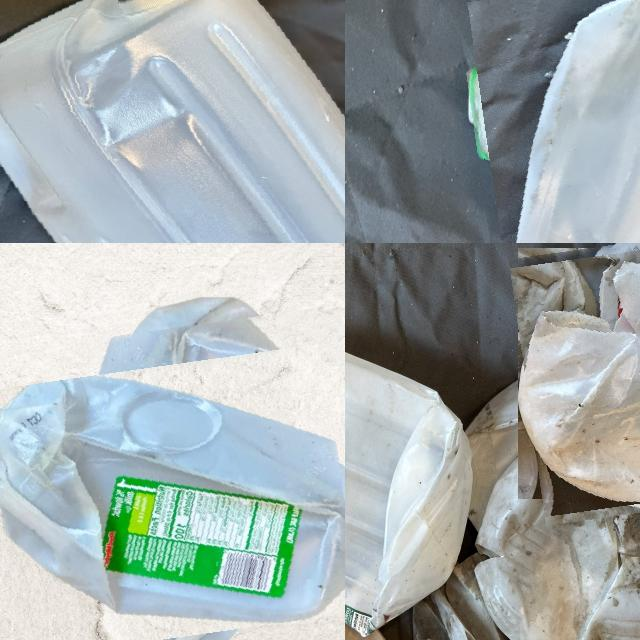milk-jug: (0, 319, 345, 640), (0, 0, 345, 243), (467, 0, 640, 243), (345, 330, 473, 628), (517, 243, 640, 516), (481, 448, 640, 640)
